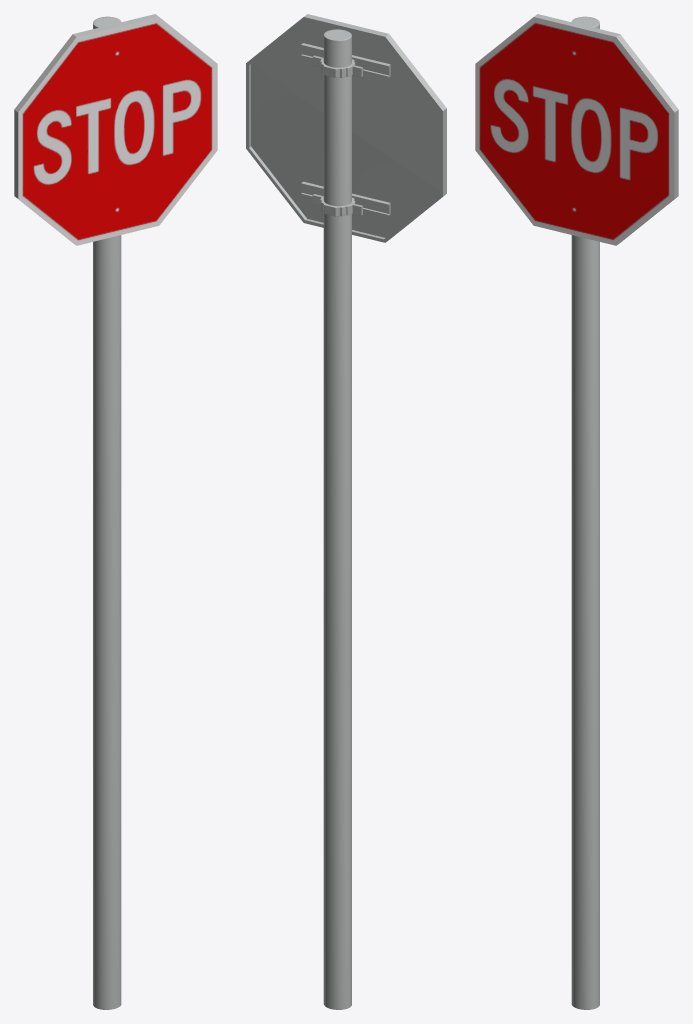
File: traffic_sign_stop.obj
The picture shows the model from 3 angles, left to right: view 1: azimuth 30°, elevation 25°; view 2: azimuth 150°, elevation 25°; view 3: azimuth 330°, elevation 25°; orthographic projection.
Parts seen in each view (by area): view 1: traffic_sign_stop; view 2: traffic_sign_stop; view 3: traffic_sign_stop.
Part boxes in pixels (bbox=[...]): traffic_sign_stop: bbox=[14, 14, 217, 1009]; traffic_sign_stop: bbox=[246, 14, 446, 1009]; traffic_sign_stop: bbox=[475, 14, 678, 1009].
Bounding box in the file's own units: 0.833 × 3.93 × 0.1369.
1 material, 1 textured.
